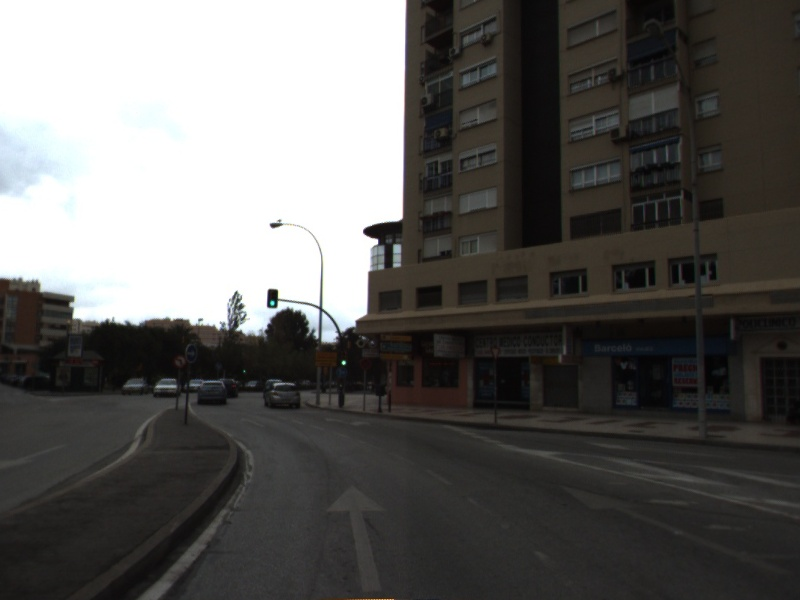STRAIGHT: (557, 480, 795, 578), (321, 480, 393, 595)
